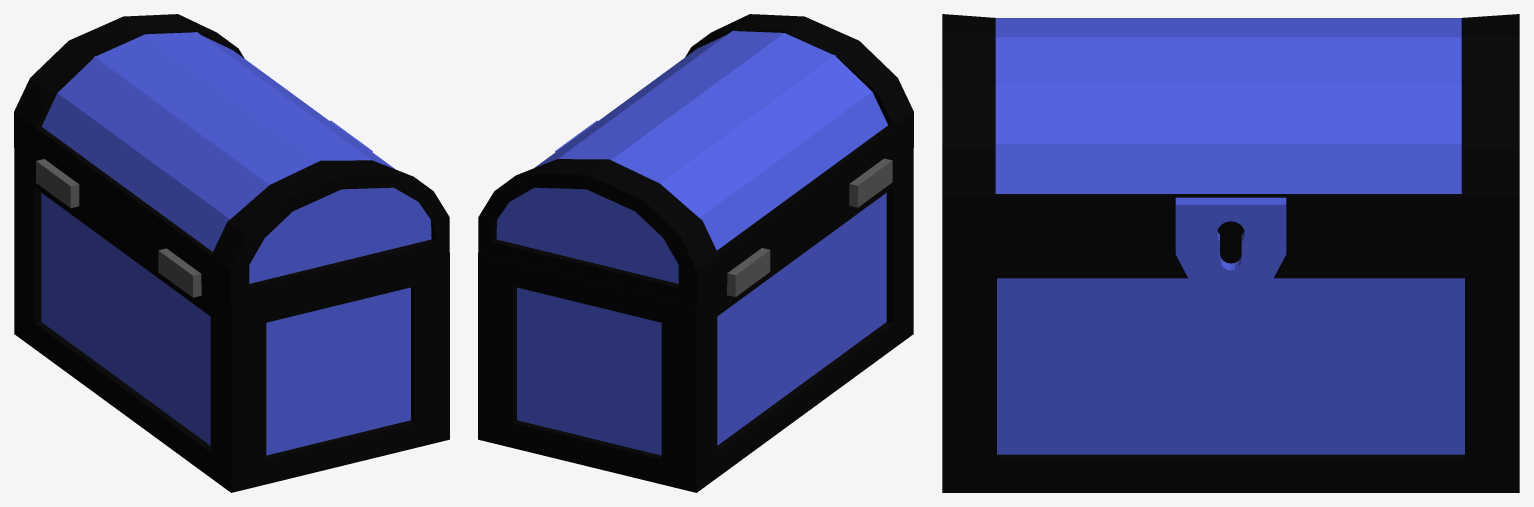
The model's file is Cofre Azul.fbx.
3 renders of one model, left to right at view 1: azimuth 30°, elevation 25°; view 2: azimuth 150°, elevation 25°; view 3: azimuth 270°, elevation 25°, orthographic. The views are drawn at different scales.
Visible parts, largest first — view 1: Cube.051, Cube.052; view 2: Cube.051, Cube.052; view 3: Cube.051, Cube.052.
Boxes of the visible parts, <box> form: Cube.051: <box>14,148,449,492</box>; Cube.052: <box>14,14,449,306</box>; Cube.051: <box>478,148,913,492</box>; Cube.052: <box>478,14,913,305</box>; Cube.051: <box>942,244,1519,492</box>; Cube.052: <box>942,14,1519,290</box>.
Size of the model in its own units: 65.65 by 76.79 by 104.
